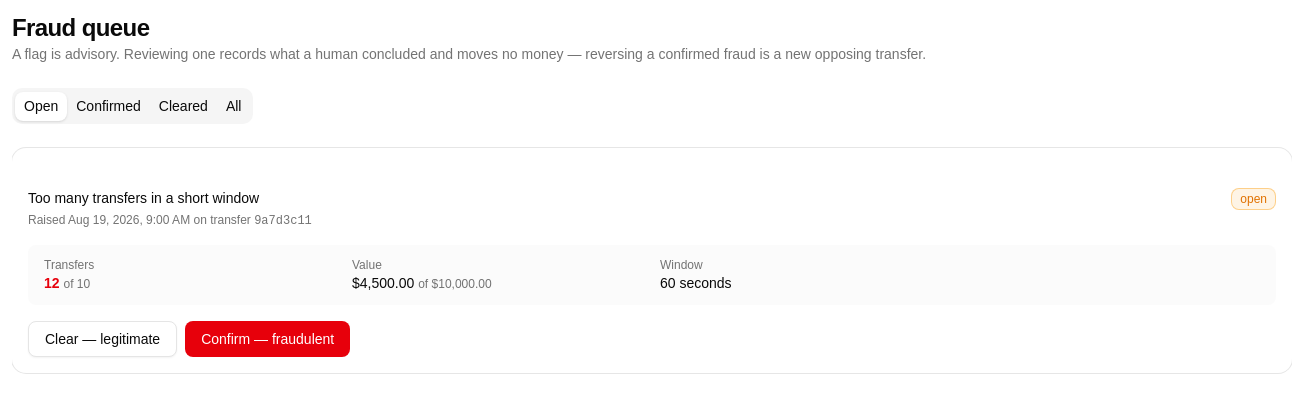
Scenario: the queue › records a successful decision and drops the flag out of the open queue
Click the button "Clear — legitimate": point(103, 339) [28,321,177,357]
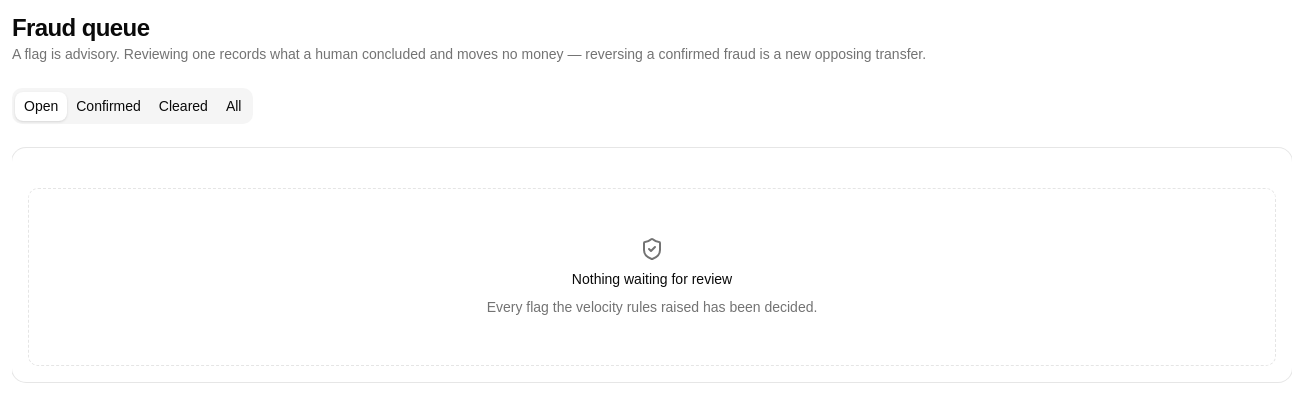
Now the element with test id "flag-card" is gone
